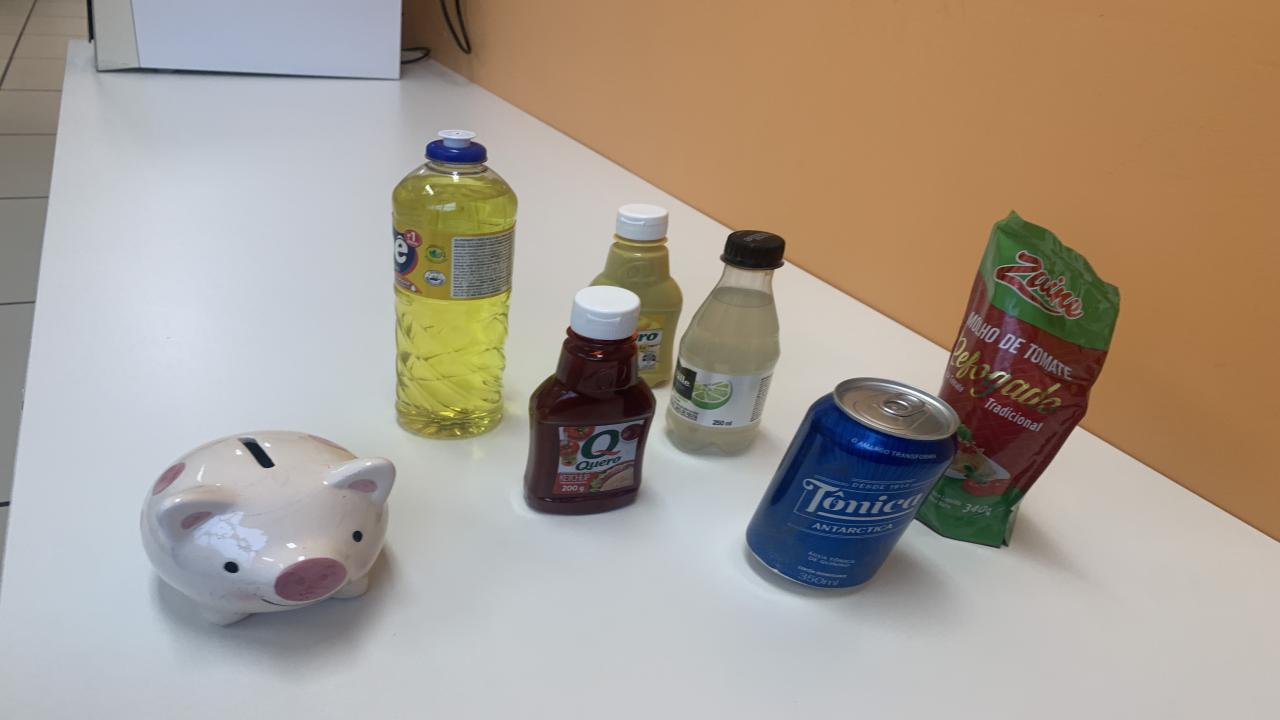Detergent-Cleanup_Items: (392, 129, 518, 439)
Ketchup-Pantry_Items: (525, 285, 655, 514)
Mustard-Pantry_Items: (592, 204, 682, 386)
Pig_Safe-Miscellaneous: (140, 431, 395, 624)
Soda-Drinks: (668, 231, 785, 454)
Tomato_Sauce-Pantry_Items: (918, 212, 1120, 546)
Tonic-Drinks: (748, 377, 958, 589)
